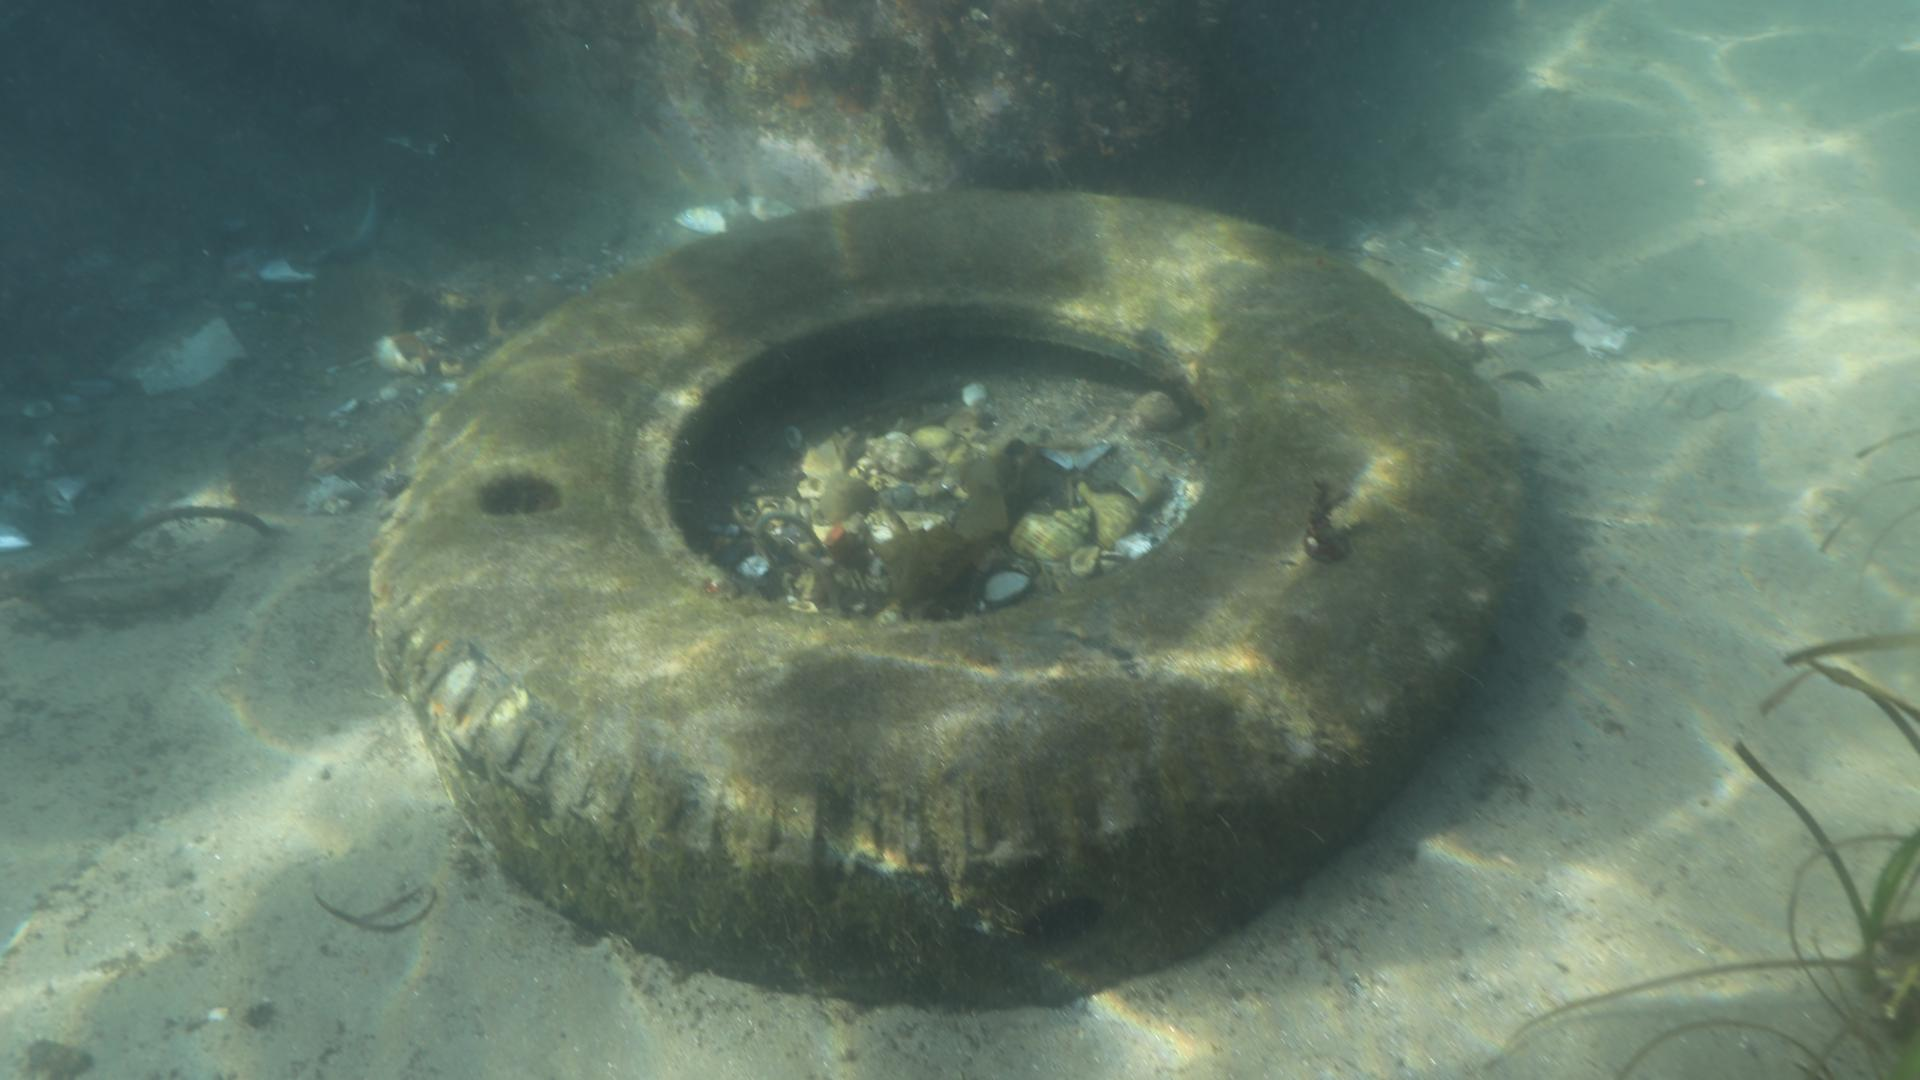tire: (367, 185, 1523, 1015)
